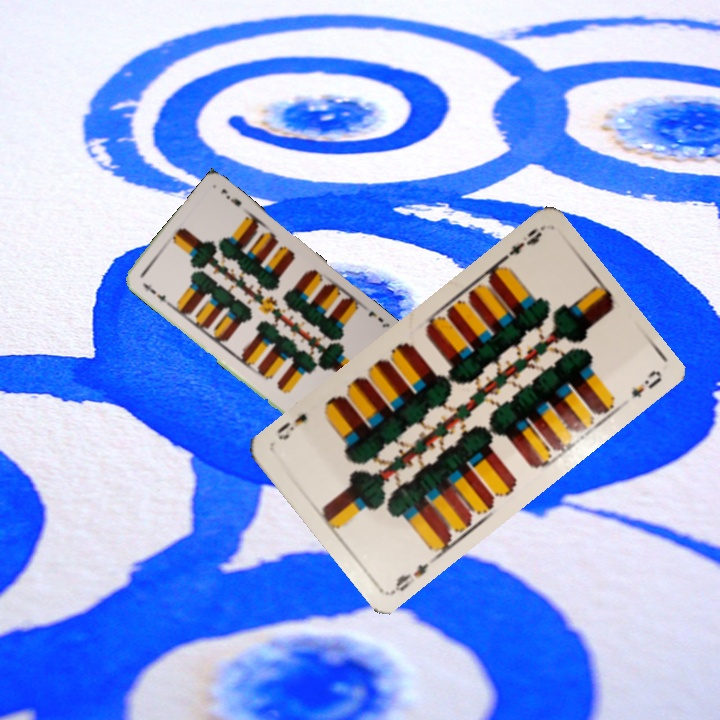E7: (138, 279, 172, 307), (364, 307, 392, 330)
E9: (495, 223, 545, 266), (387, 558, 432, 596)
